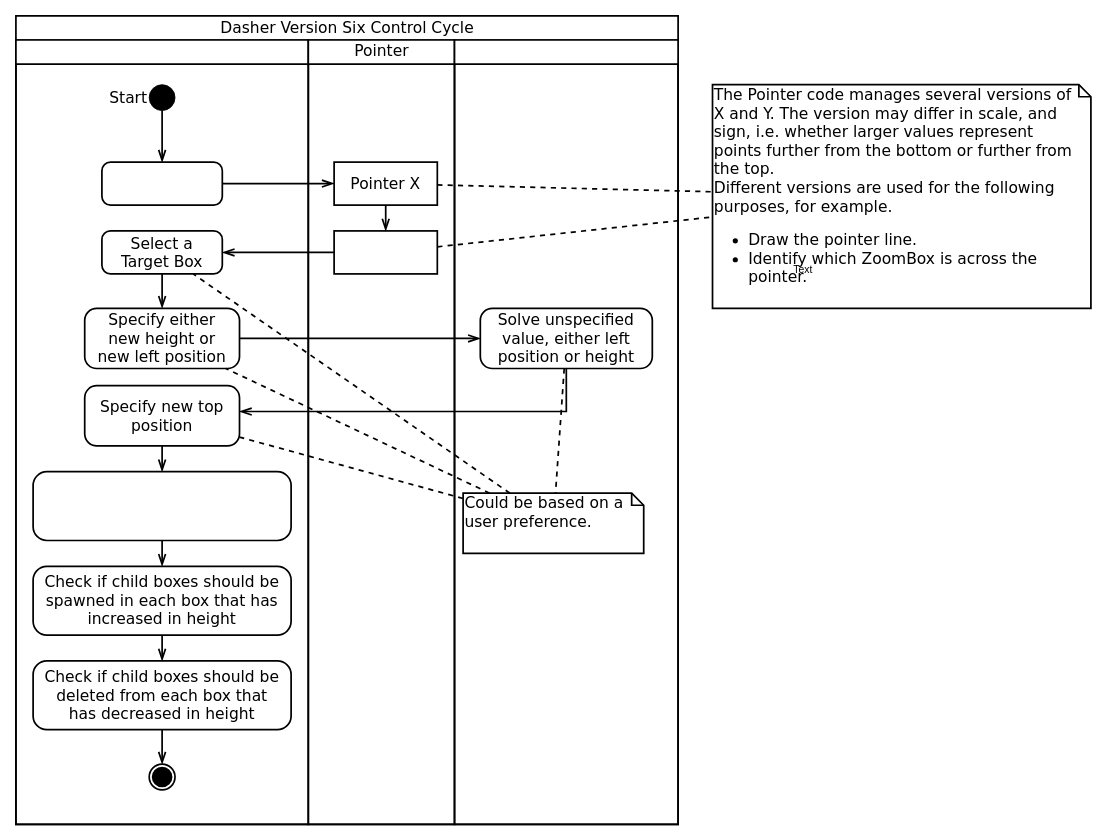
Some shapes in this 1106 by 839 pixel diagram are drawn without their labels. The shapes that lost their labels are listed below. From the top down, each one's box as (x1, y1, x2, y2) in pixels, then its label:
(101, 161, 223, 206): Get pointer position
(333, 230, 438, 274): Pointer Y
(15, 39, 309, 825): Controller
(453, 39, 679, 825): Solver
(32, 470, 292, 541): Cascade changes in position and height to sibling, parent, and child boxes
(148, 763, 175, 790): Finish
